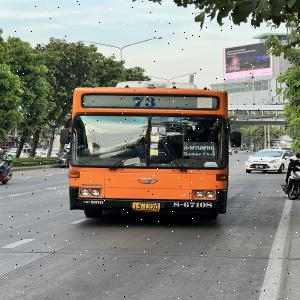BMTA-bus: (60, 84, 230, 220)
Bus Line Number: (131, 95, 160, 108)
Bus Side Number: (169, 200, 214, 209)
Destination Sign: (182, 142, 215, 157)
